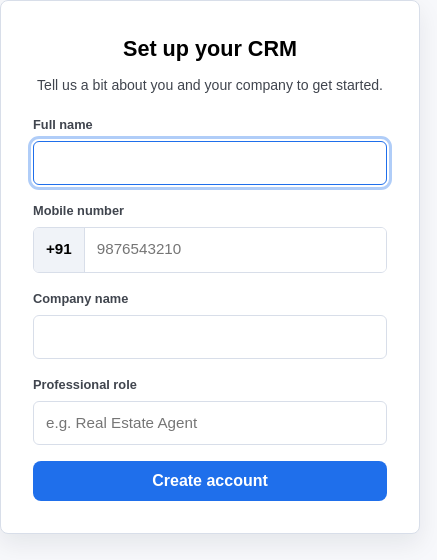
Test case: OnboardingFormClient › keeps the mobile box to the 10 digits when given letters and symbols
This screenshot has width=437, height=560.
Type "98a76#5-43 210" into the field labelled "Mobile number".
click(235, 250); type("98a76#5-43 210")  # box x1=85 y1=228 x2=386 y2=272
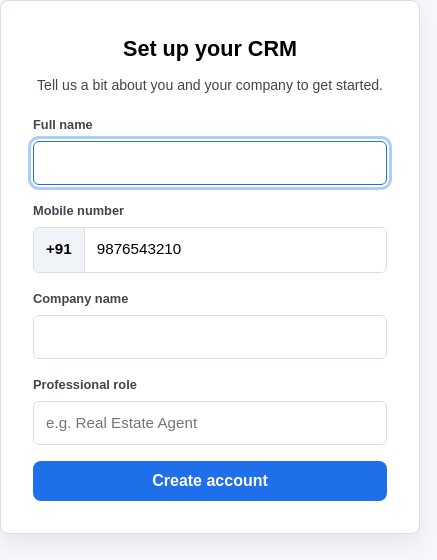
Expected: the field labelled "Mobile number" holds "9876543210", x1=85 y1=228 x2=386 y2=272
